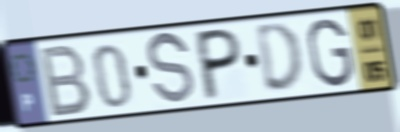0: (89, 40, 137, 110)
B: (39, 41, 95, 120)
D: (253, 19, 306, 96)
G: (305, 16, 356, 91)
P: (195, 25, 243, 105)
S: (145, 29, 197, 110)
